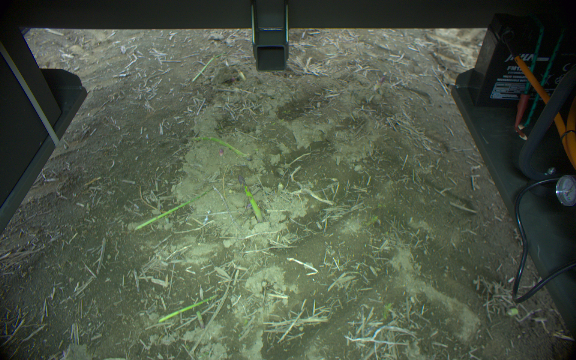aspa: (136, 185, 215, 232), (159, 294, 221, 324), (185, 135, 251, 160), (236, 175, 264, 222), (195, 311, 206, 329)
